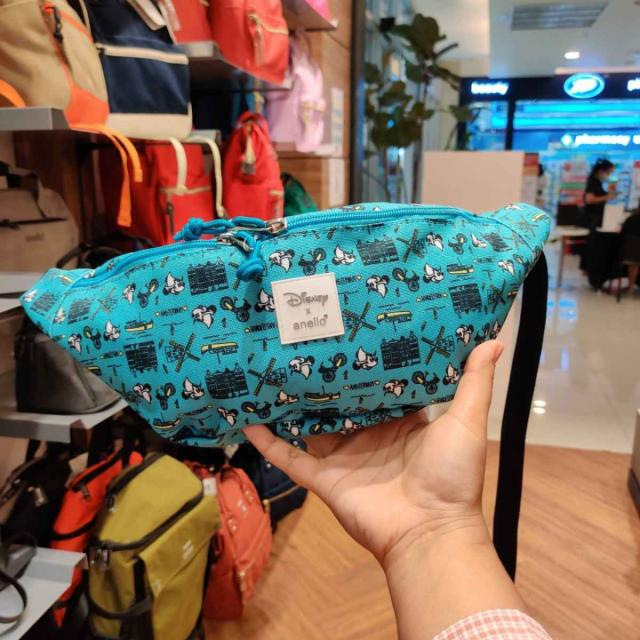Handbag: (19, 197, 556, 444)
